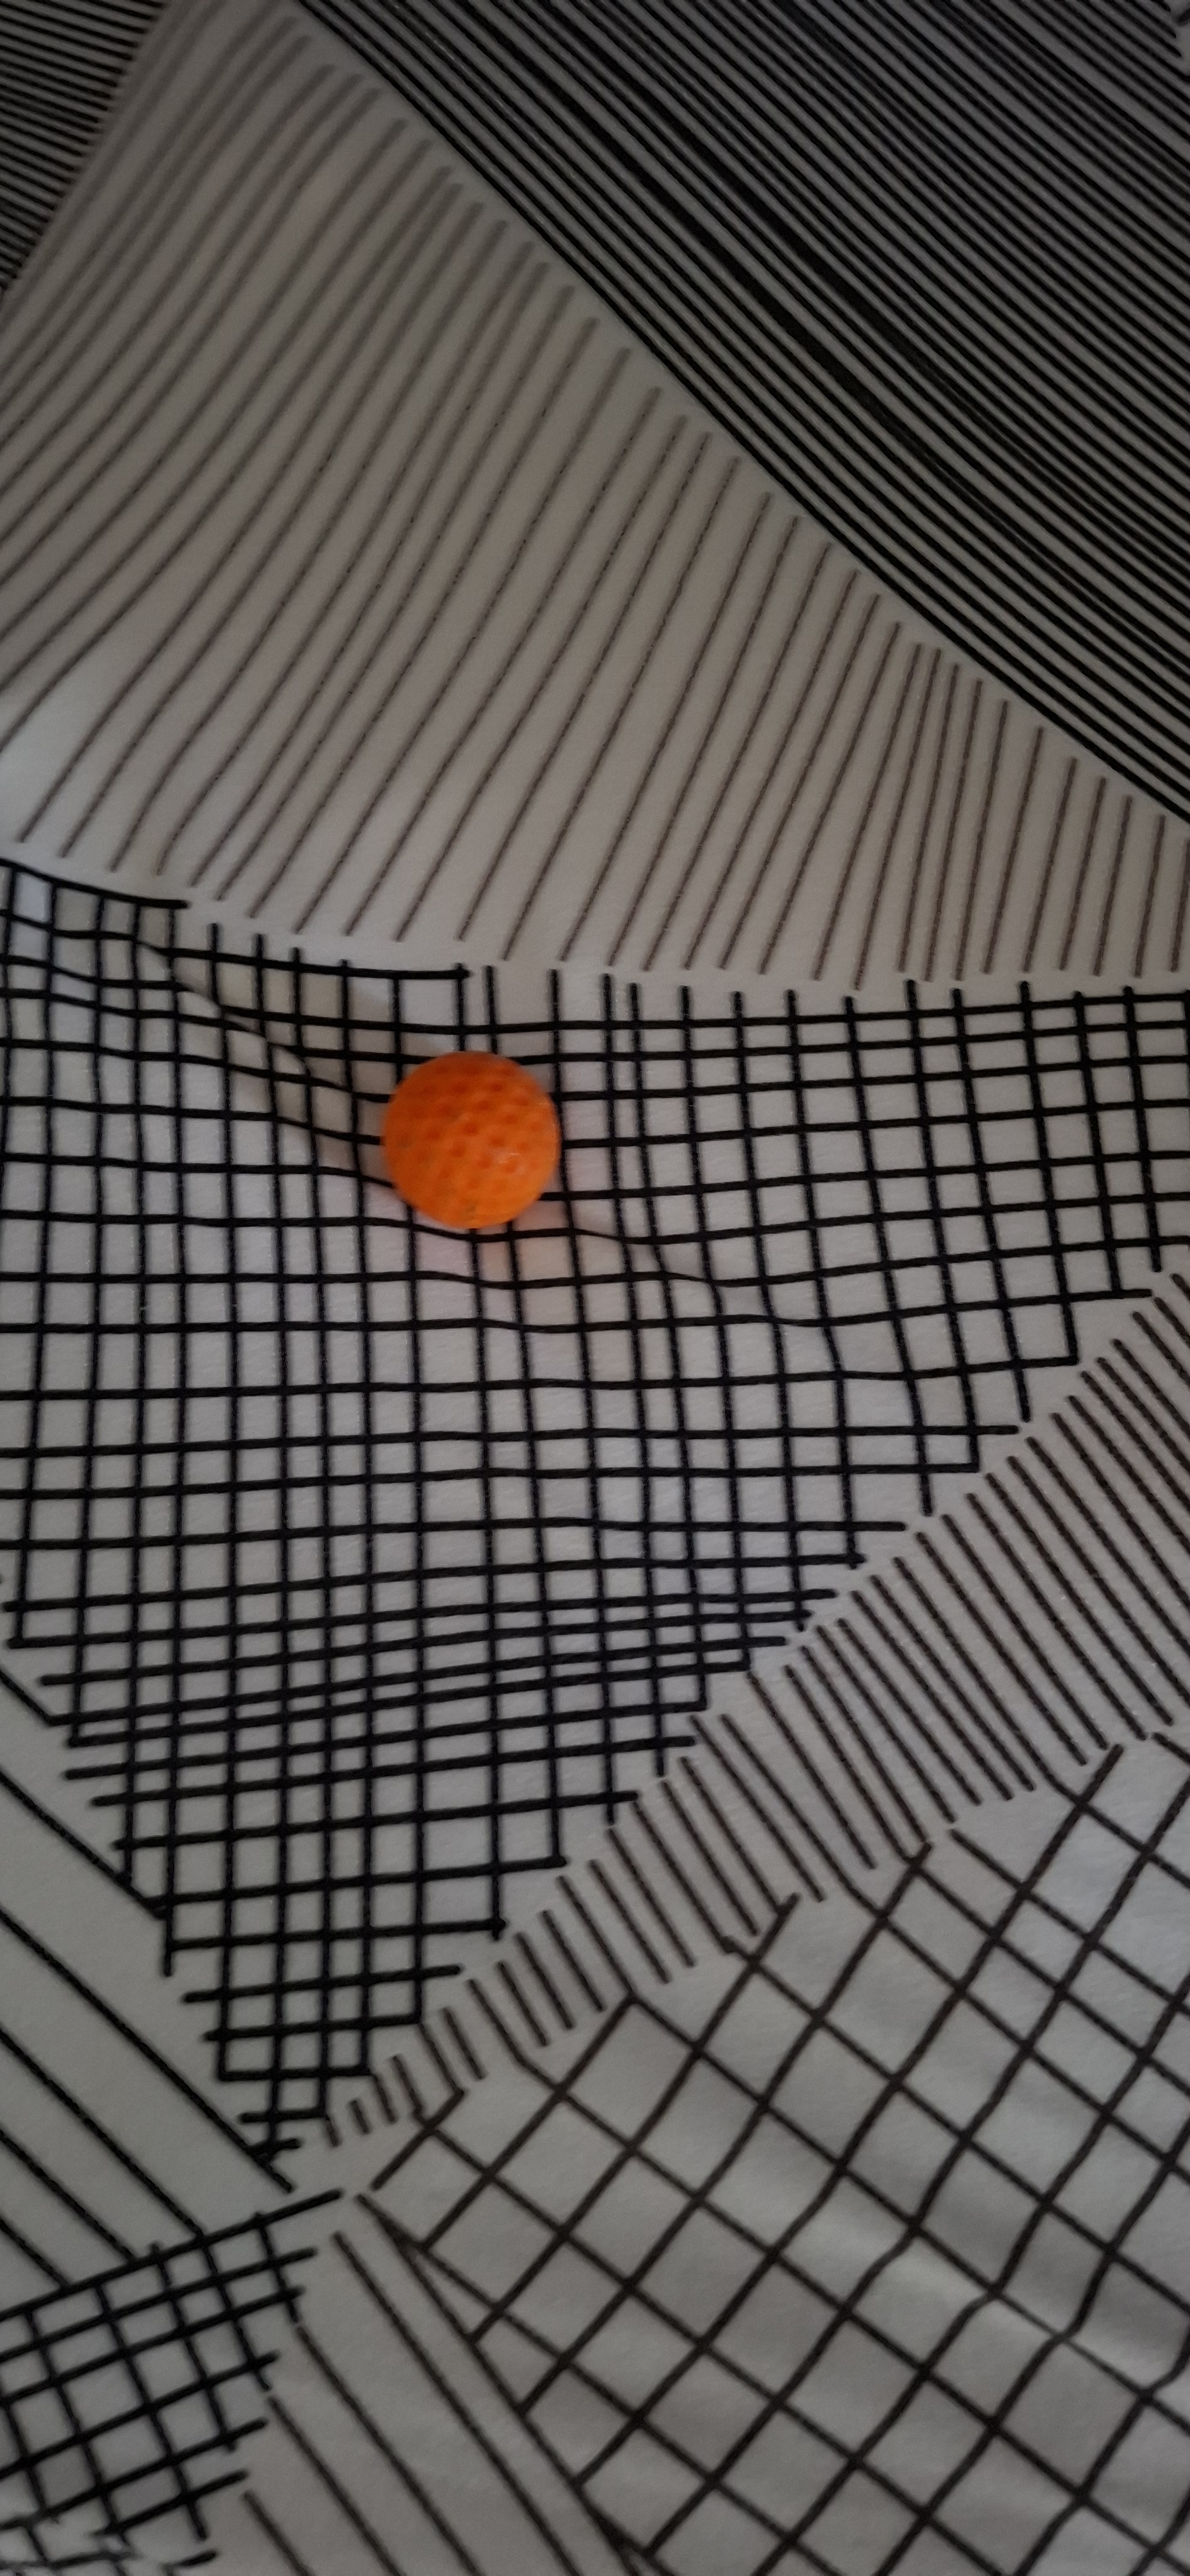ball: (482, 1347, 569, 1748)
